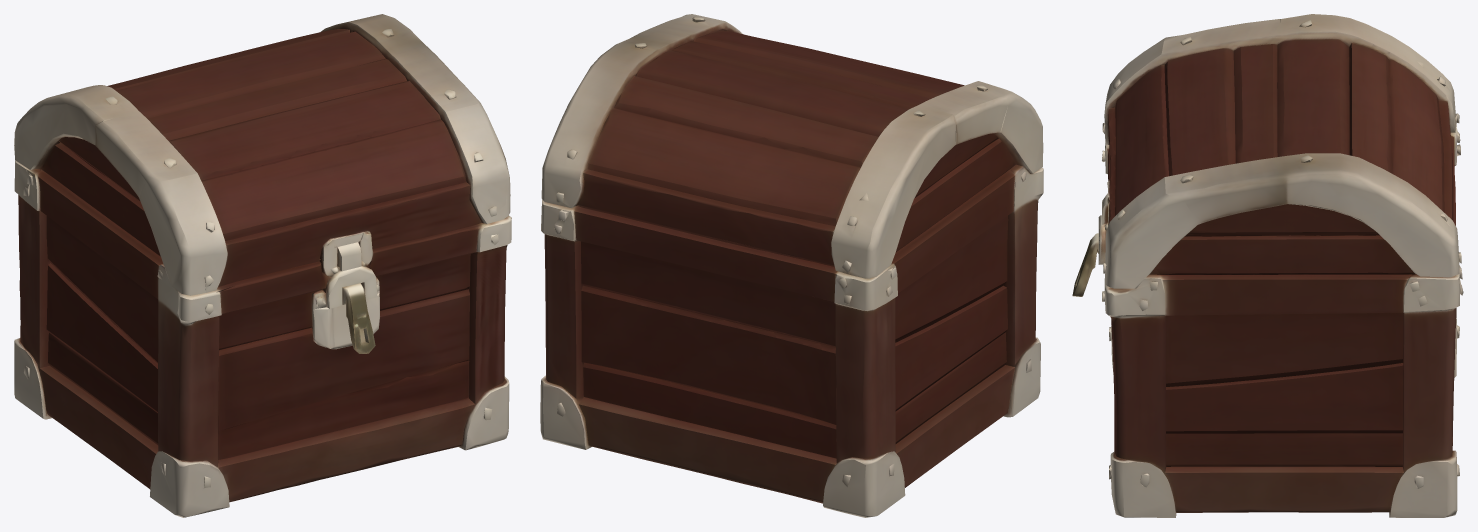
The model's file is chest-interactive.glb.
3 renders of one model, left to right at view 1: azimuth 30°, elevation 25°; view 2: azimuth 150°, elevation 25°; view 3: azimuth 270°, elevation 25°, orthographic.
Parts seen in each view (by area): view 1: Base, LidExterior; view 2: Base, LidExterior; view 3: LidExterior, Base.
Boxes of the visible parts, bbox=[...] form: Base: bbox=[14, 174, 511, 517]; LidExterior: bbox=[14, 14, 510, 295]; Base: bbox=[540, 168, 1043, 517]; LidExterior: bbox=[541, 14, 1043, 293]; LidExterior: bbox=[1102, 14, 1462, 292]; Base: bbox=[1072, 143, 1463, 517].
Bounding box in the file's own units: 1.92 × 1.88 × 1.91.
Materials: 2 (1 with a texture image).
